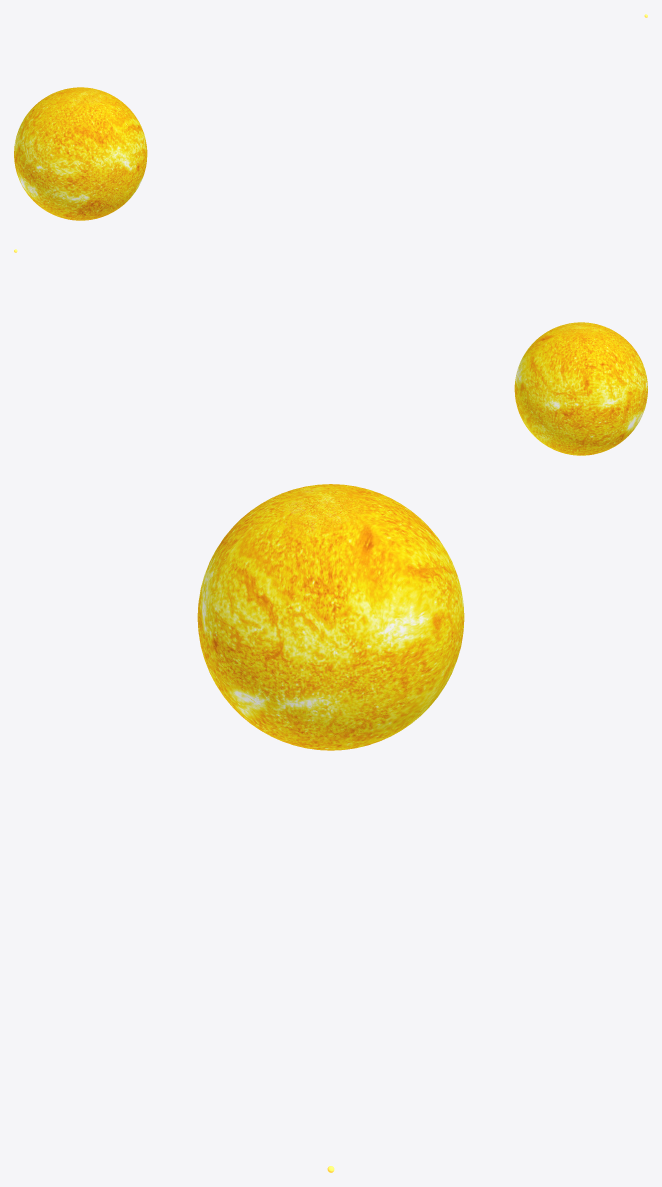
The model's file is nasa-parker-perihelion-distance.glb.
The picture shows the model from 3 angles, top to bottom: view 1: azimuth 30°, elevation 25°; view 2: azimuth 150°, elevation 25°; view 3: azimuth 270°, elevation 25°; orthographic projection. The views are drawn at different scales.
Visible parts, largest first — view 1: Sun; view 2: Sun; view 3: Sun.
Part boxes in pixels (x1,y1,x2,y2): Sun: [14, 87, 147, 220]; Sun: [514, 322, 647, 455]; Sun: [197, 484, 464, 750].
Bounding box in the file's own units: 1.23 × 0.2275 × 0.2275.
Materials: 2 (1 with a texture image).
